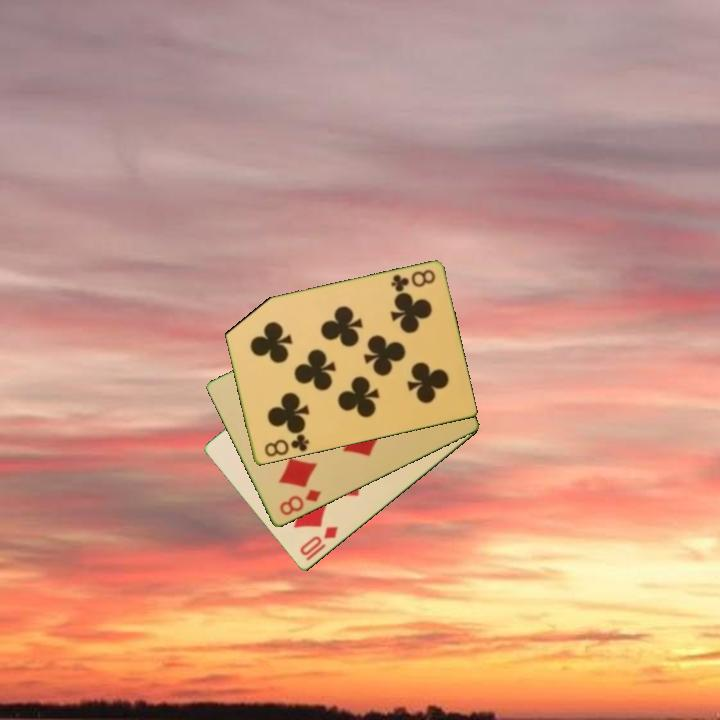10d: (296, 523, 341, 559)
8c: (261, 429, 312, 460), (387, 266, 438, 295)
8d: (276, 486, 324, 519)
